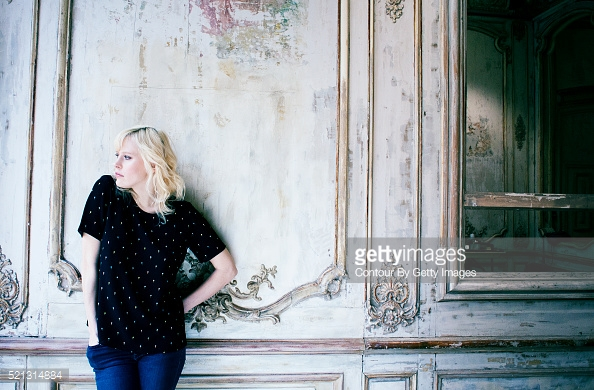em pe: (76, 108, 225, 390)
